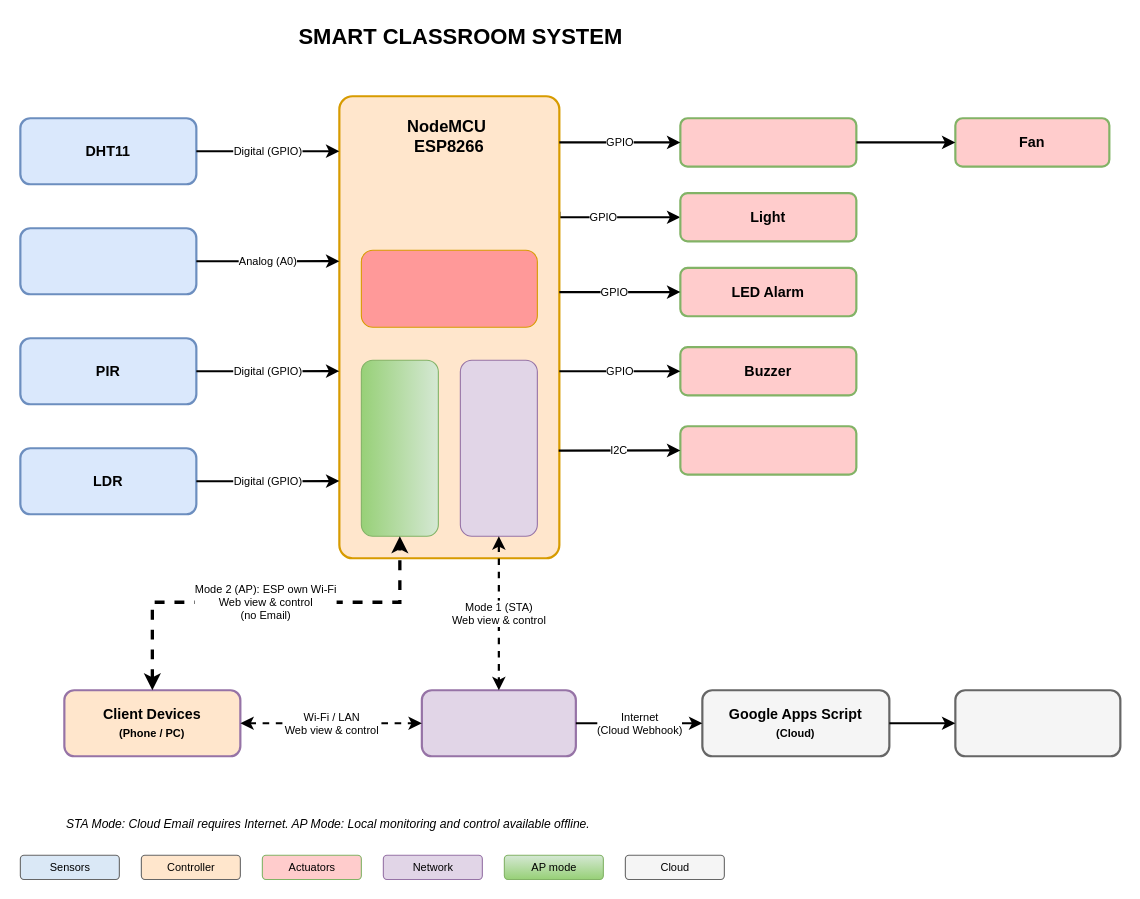
Some shapes in this 1140 by 899 pixel diagram are drawn without their labels. Each missing label, with the centre of its shape:
Email Alert: (x=1037, y=723)
Embedded Web Server (monitor & control): (x=448, y=288)
LCD: (x=768, y=450)
Mode 1: STA (Station Mode): (x=498, y=447)
Mode 2: AP (Access Point Mode): (x=399, y=447)
MQ135: (x=108, y=261)
Relay: (x=768, y=142)
Wi-Fi Router: (x=498, y=723)
